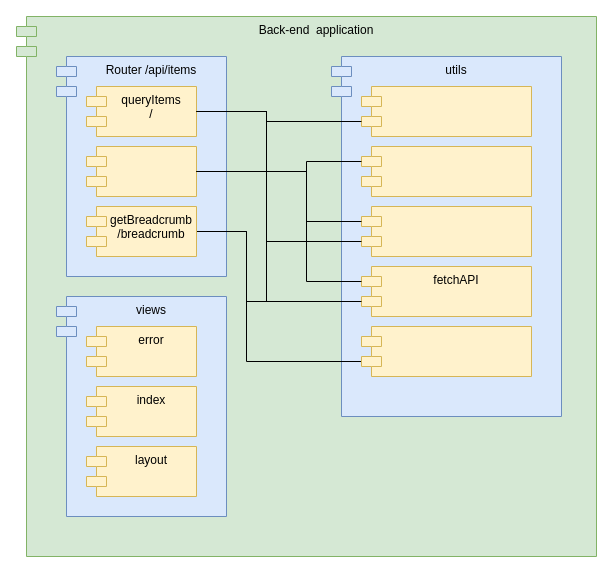
This 613x573 diagram has some shape labels left out. Each missing label, with the centre of its shape:
"buildItemResponse" goes at point 446,171.
"buildQueryItemsResponse" goes at point 446,111.
"extractPriceDecimals" goes at point 446,231.
"getItemById /:id" goes at point 141,171.
"mostFrequentItem" goes at point 446,351.
